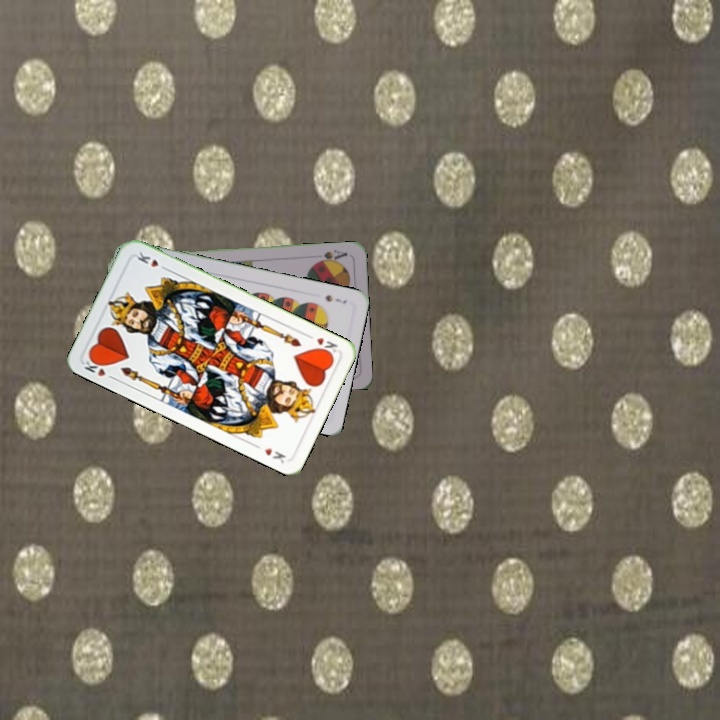HK: (80, 353, 118, 382), (303, 330, 340, 358)
S7: (321, 291, 349, 306)
SA: (311, 246, 350, 266)
